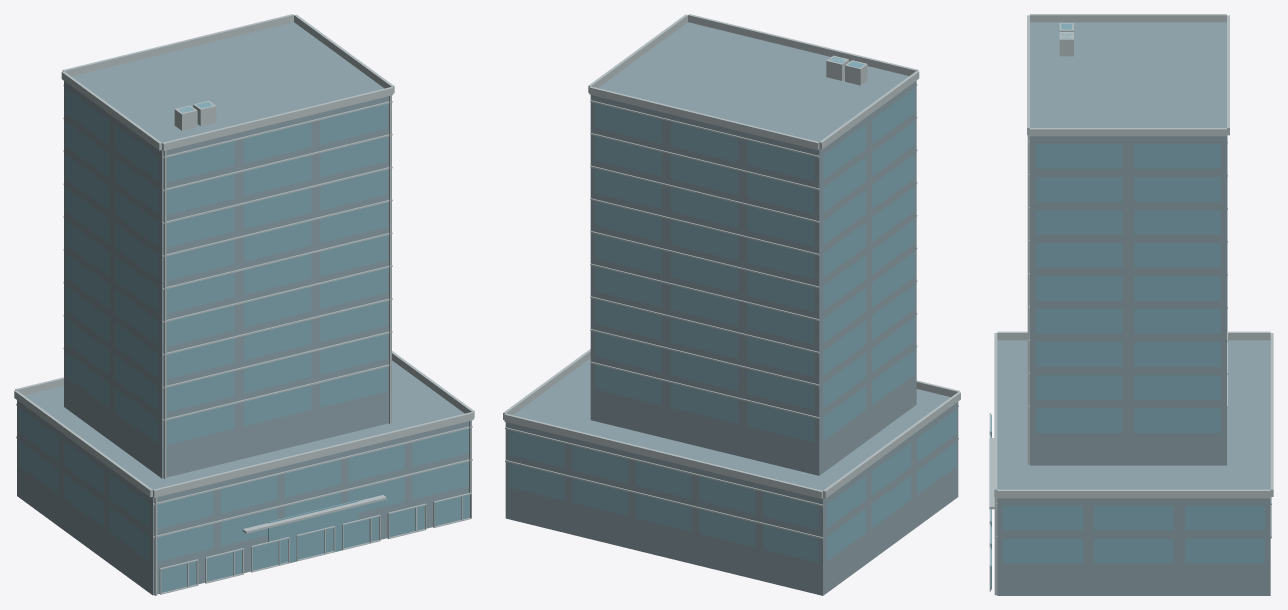
The model's file is commercial_4x3_b.glb.
The picture shows the model from 3 angles, left to right: view 1: azimuth 30°, elevation 25°; view 2: azimuth 150°, elevation 25°; view 3: azimuth 270°, elevation 25°; orthographic projection.
Parts seen in each view (by area): view 1: commercial_4x3_b_0; view 2: commercial_4x3_b_0; view 3: commercial_4x3_b_0.
Part boxes in pixels (x1,y1,x2,y2): commercial_4x3_b_0: (14,14,474,595); commercial_4x3_b_0: (503,14,960,595); commercial_4x3_b_0: (989,14,1273,595).
Size of the model in its own units: 31 by 40.5 by 23.4.
